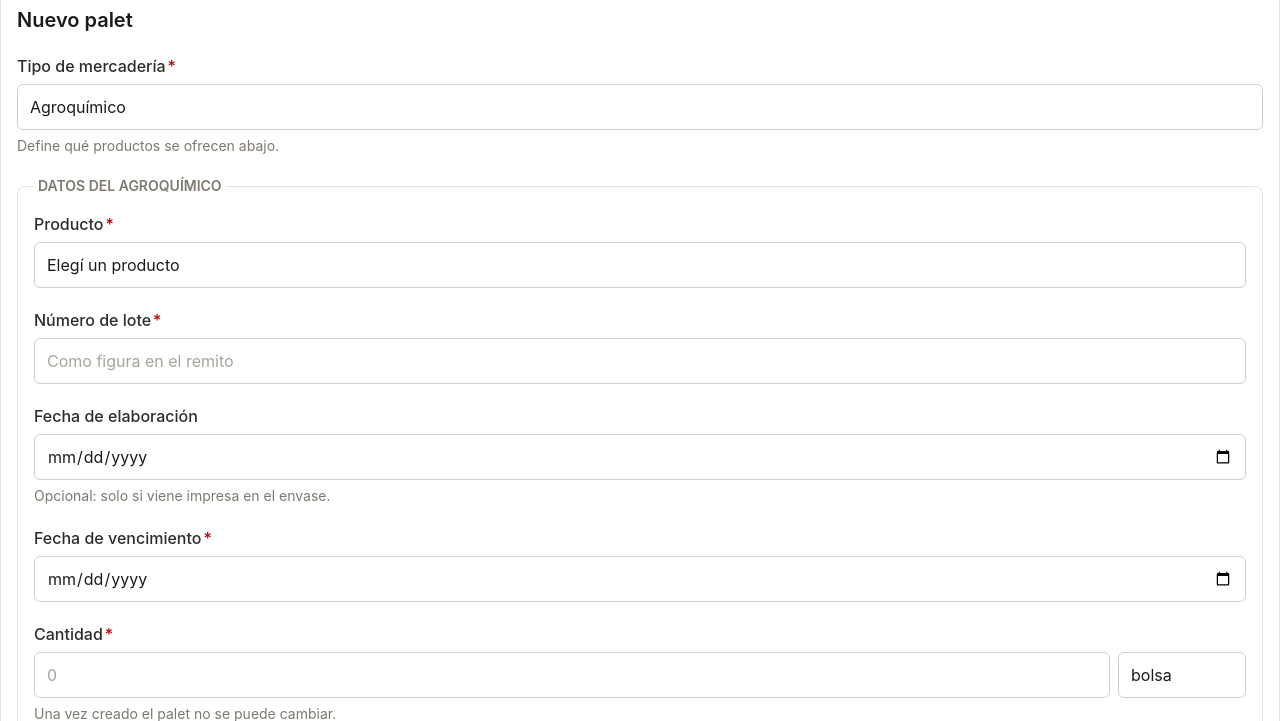
alta de un lote › muestra cuánto va a quedar en cada palet antes de crearlos
This screenshot has width=1280, height=721.
Step 1. Type "100" into the field labelled "Cantidad*" → [572, 675], box [34, 652, 1110, 698]
(page scrolled)
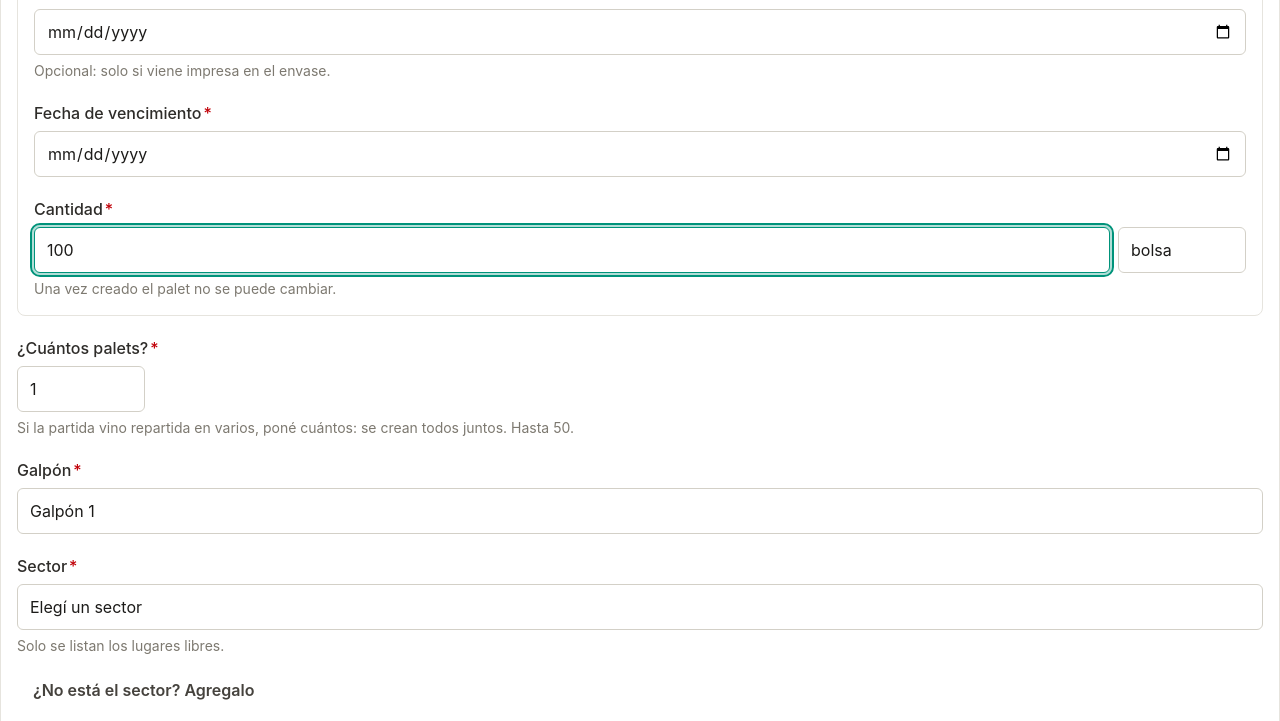
Step 2. Type "3" into the field labelled "¿Cuántos palets?*" → [81, 389], box [17, 366, 145, 412]
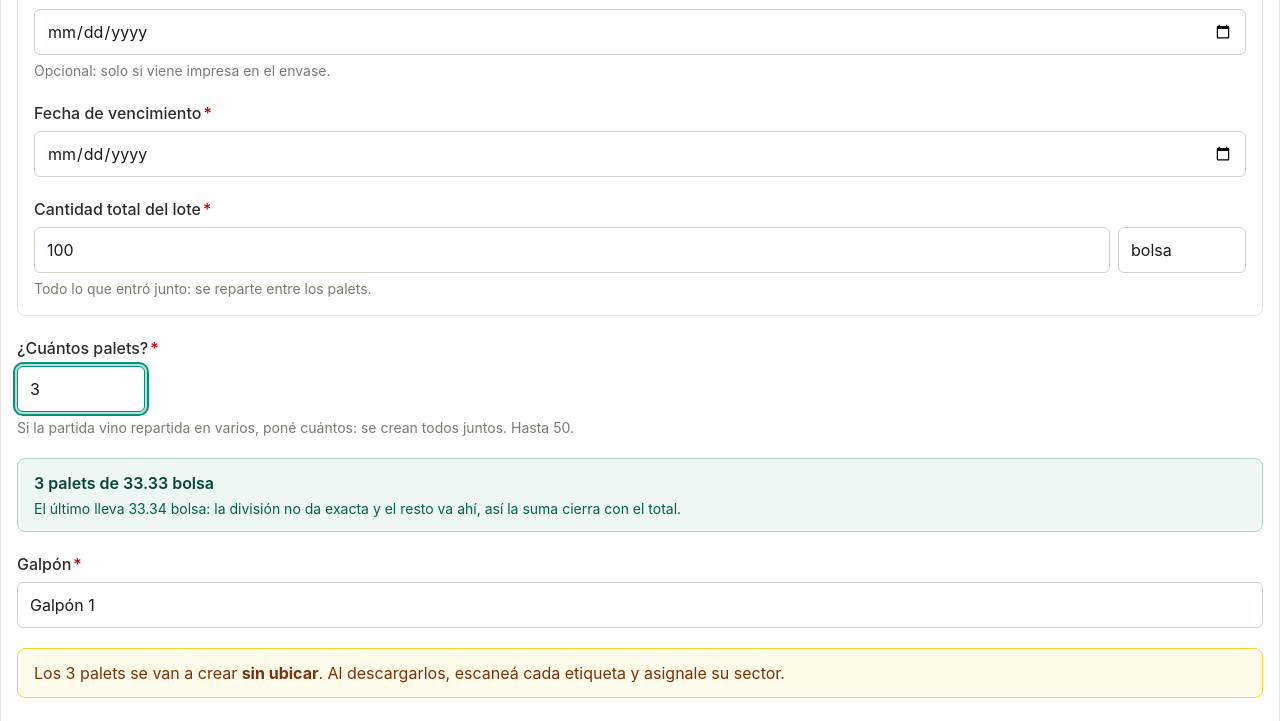
expect the text "3 palets de 33.33 bolsa" is shown: met, box [34, 473, 214, 493]
expect the text "El último lleva 33.34" is shown: met, box [34, 500, 681, 517]
